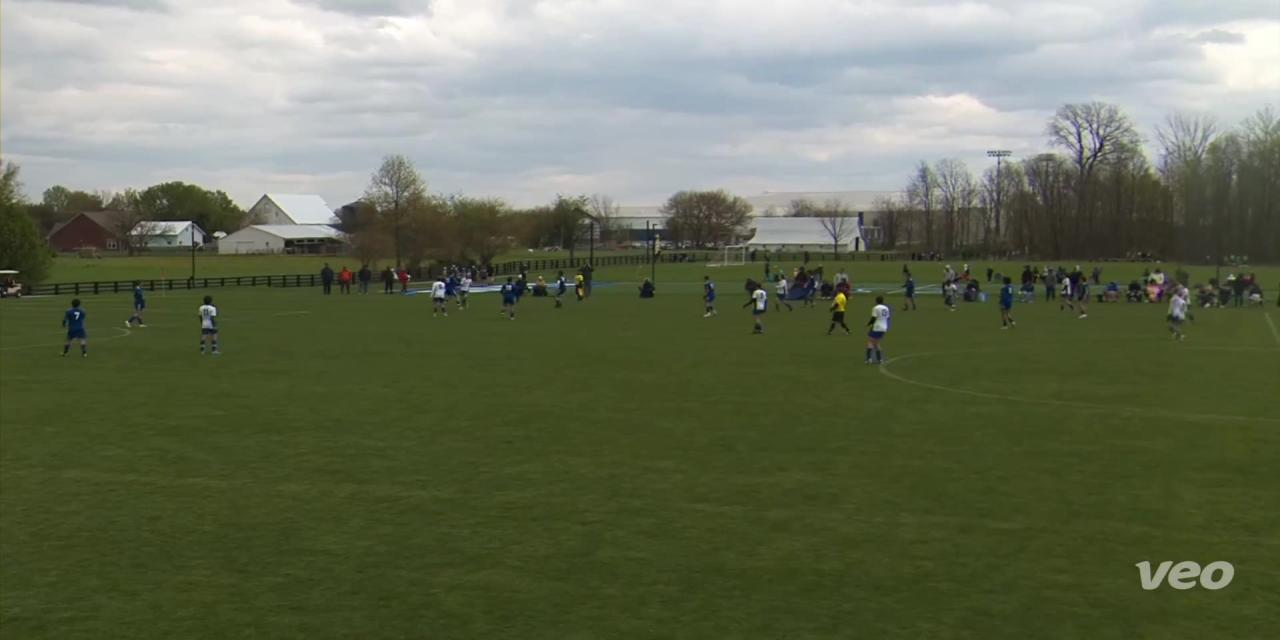sports ball: (521, 245, 543, 261)
